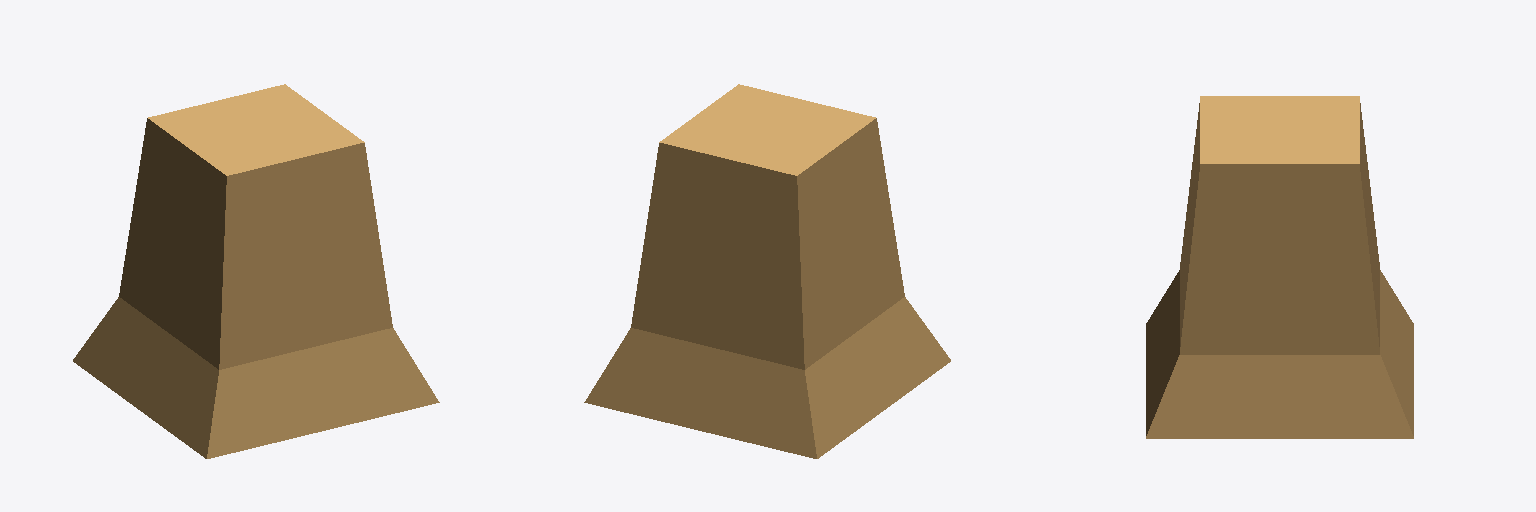
The picture shows the model from 3 angles: view 1: azimuth 30°, elevation 25°; view 2: azimuth 150°, elevation 25°; view 3: azimuth 270°, elevation 25°; orthographic projection.
Parts seen in each view (by area): view 1: Mesh1 Trunk Model; view 2: Mesh1 Trunk Model; view 3: Mesh1 Trunk Model.
Boxes of the visible parts, x1=… form: Mesh1 Trunk Model: x1=73, y1=84, x2=439, y2=458; Mesh1 Trunk Model: x1=584, y1=84, x2=950, y2=458; Mesh1 Trunk Model: x1=1146, y1=96, x2=1413, y2=438.
Bounding box in the file's own units: 0.8037 × 0.83 × 0.8037.
Materials: 1 (1 with a texture image).